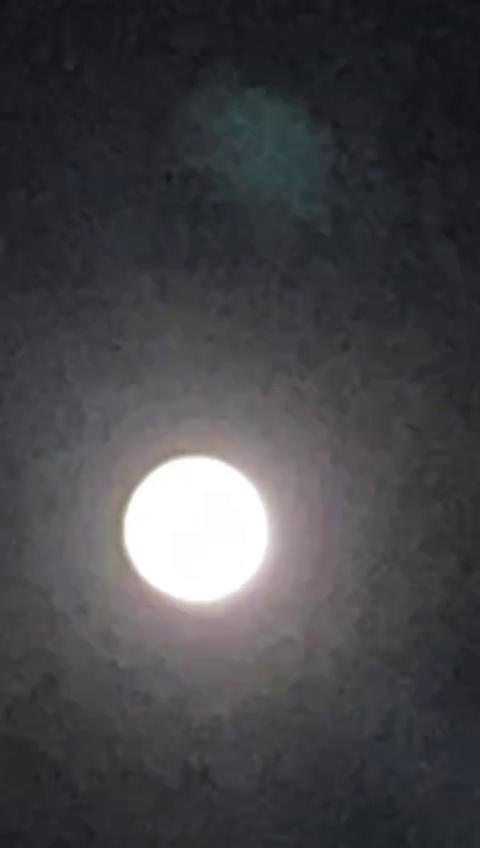moon: (113, 439, 285, 630)
